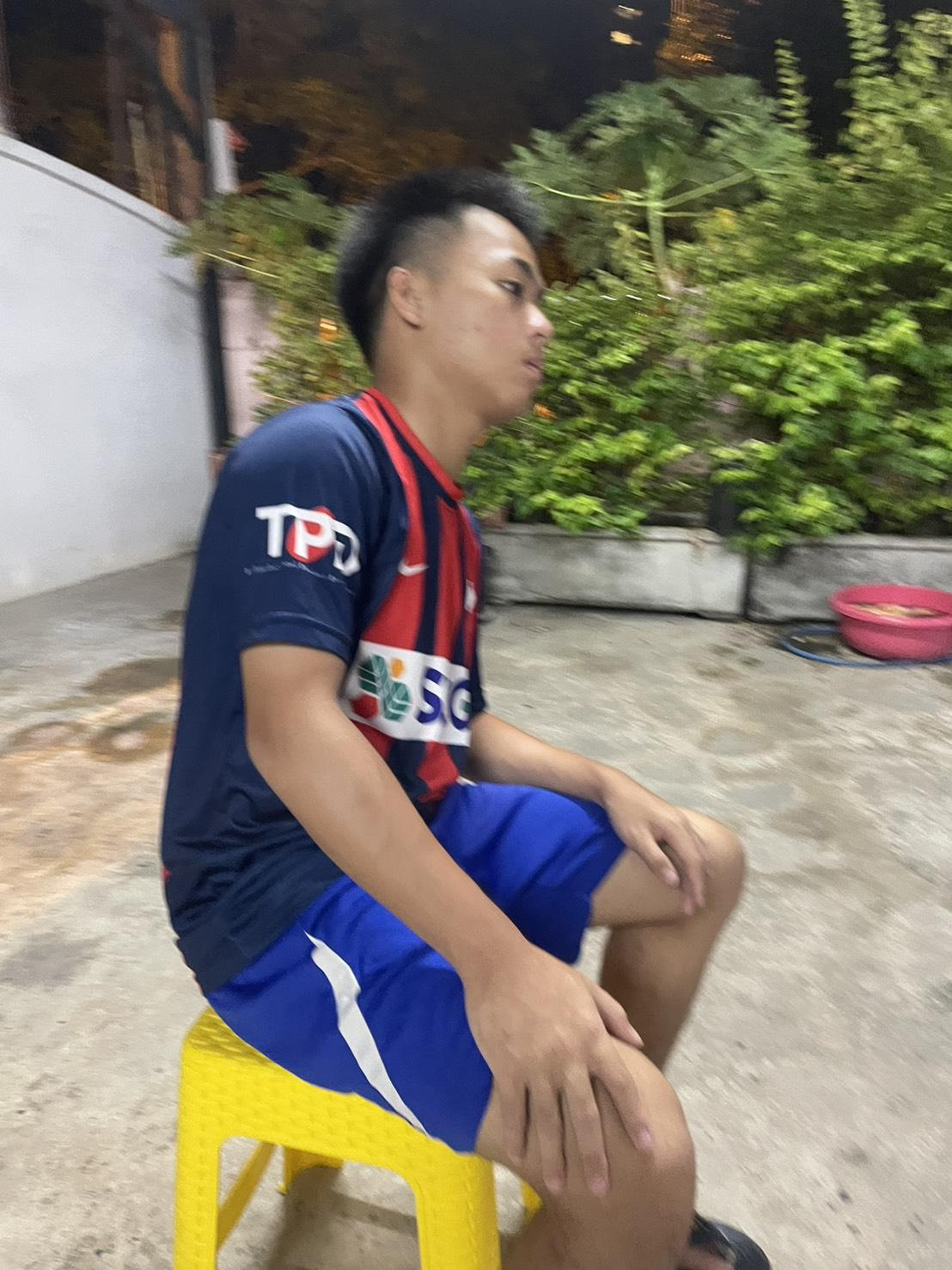BadPosture: (161, 169, 704, 985), (160, 168, 623, 973)
